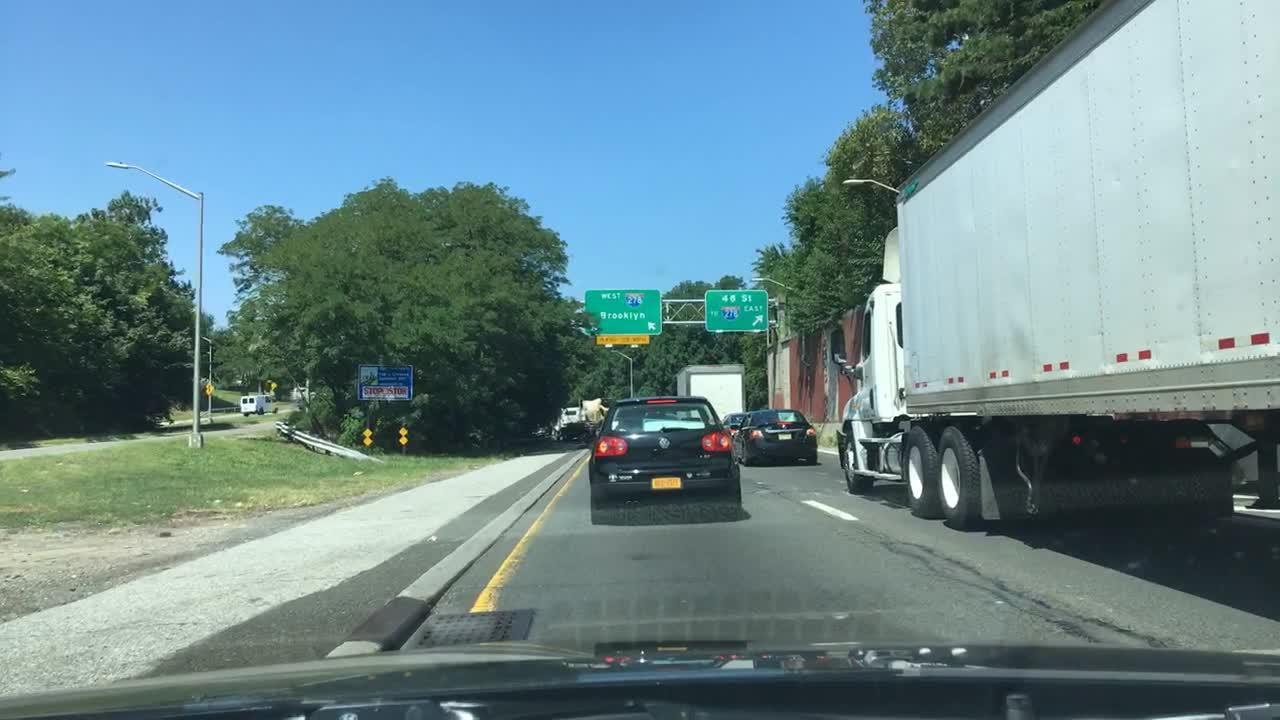Volkswagen: (654, 433, 680, 456)
